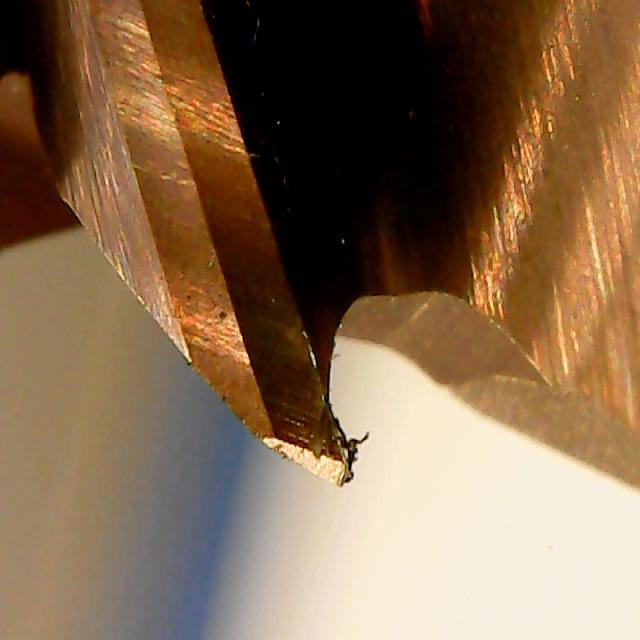Tool-wear-class-1: (201, 278, 384, 508)
